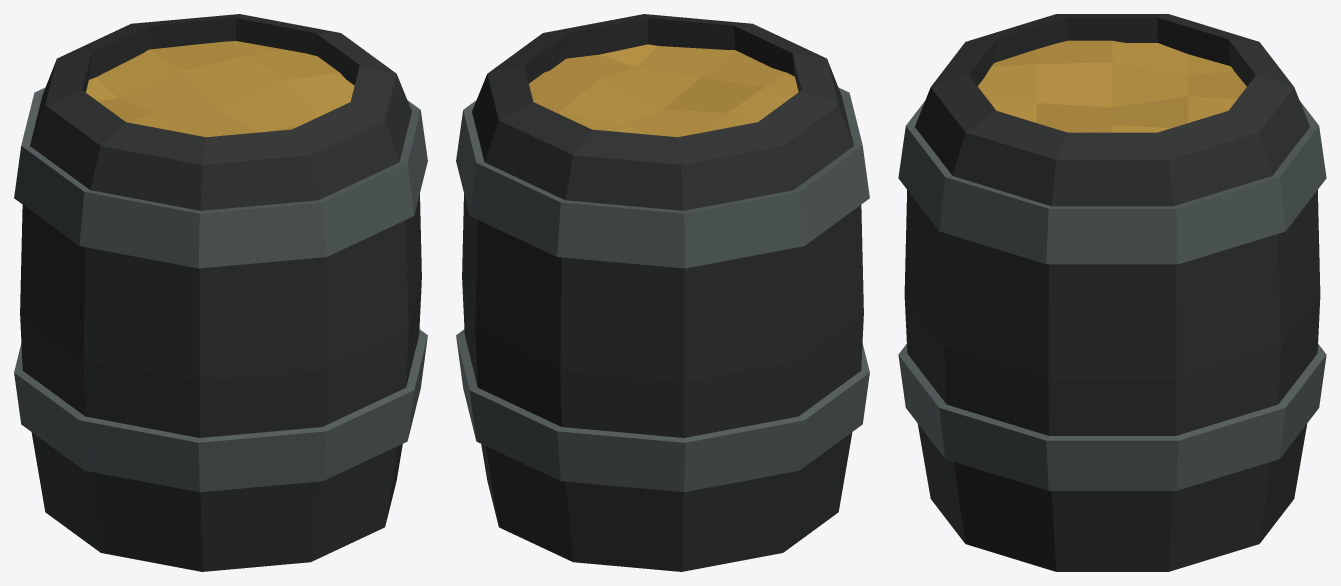
Rendered from Barrel_5_Black.fbx.
3 views of the same model, side by side, from view 1: azimuth 30°, elevation 25°; view 2: azimuth 150°, elevation 25°; view 3: azimuth 270°, elevation 25° (orthographic).
Visible parts, largest first — view 1: Barrel_5_Black_Part_1, Barrel_5_Black_Part_2, Barrel_5_Black_Part_3; view 2: Barrel_5_Black_Part_1, Barrel_5_Black_Part_2, Barrel_5_Black_Part_3; view 3: Barrel_5_Black_Part_1, Barrel_5_Black_Part_2, Barrel_5_Black_Part_3.
Part boxes in pixels (x1,y1,x2,y2): Barrel_5_Black_Part_1: (20, 14, 421, 571); Barrel_5_Black_Part_2: (14, 87, 427, 492); Barrel_5_Black_Part_3: (86, 41, 354, 137); Barrel_5_Black_Part_1: (462, 14, 863, 571); Barrel_5_Black_Part_2: (456, 87, 869, 492); Barrel_5_Black_Part_3: (529, 44, 798, 137); Barrel_5_Black_Part_1: (904, 14, 1320, 571); Barrel_5_Black_Part_2: (898, 101, 1326, 490); Barrel_5_Black_Part_3: (977, 40, 1246, 132).
Size of the model in its own units: 134 by 154 by 141.
